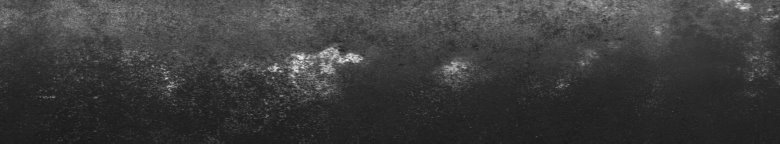kb: (4, 22, 365, 128)
